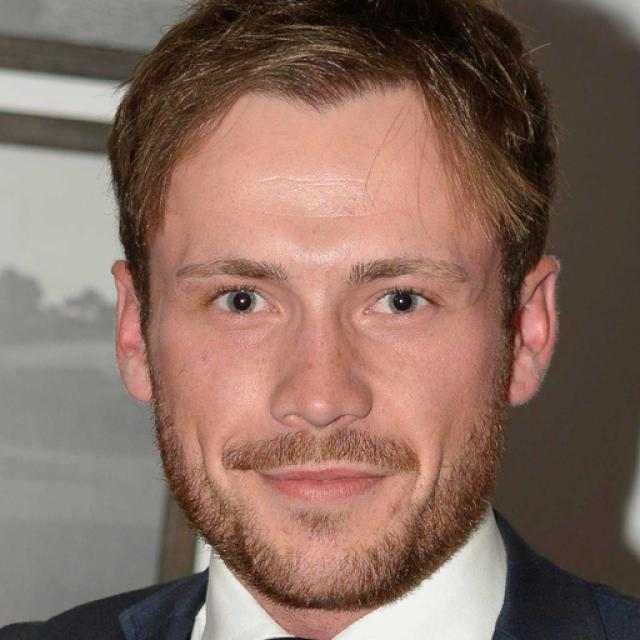content: (142, 77, 510, 614)
